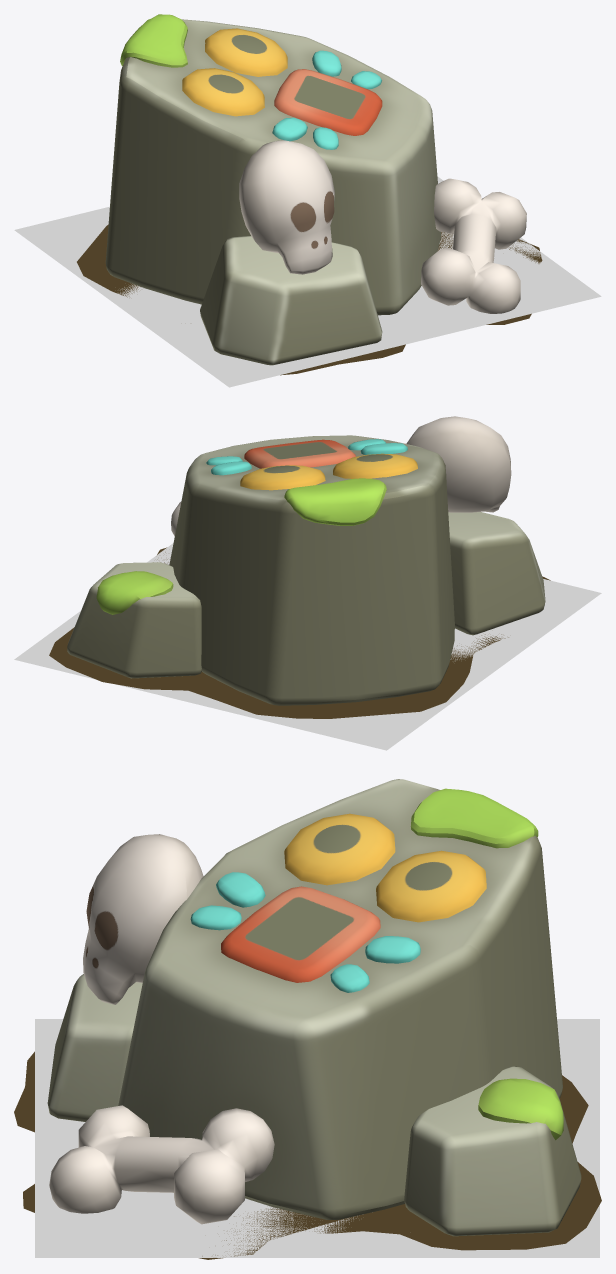
Rendered from VK_RockSculp02.fbx.
3 views of the same model, one above another, from view 1: azimuth 30°, elevation 25°; view 2: azimuth 150°, elevation 25°; view 3: azimuth 270°, elevation 25° (orthographic). The views are drawn at different scales.
Visible parts, largest first — view 1: polySurface6, polySurface4, RockSculp02_Grid_Large, polySurface14, Shadow; view 2: polySurface6, polySurface4, polySurface8, RockSculp02_Grid_Large, Shadow; view 3: polySurface6, RockSculp02_Grid_Large, polySurface8, polySurface4, polySurface14, Shadow.
Part boxes in pixels (x1,y1,x2,y2): polySurface6: (105,14,440,315); polySurface4: (200,140,382,365); RockSculp02_Grid_Large: (14,176,601,387); polySurface14: (421,178,526,313); Shadow: (77,224,542,375); polySurface6: (169,435,454,705); polySurface4: (406,416,545,635); polySurface8: (67,562,201,678); RockSculp02_Grid_Large: (14,543,601,750); Shadow: (49,547,550,718); polySurface6: (118,779,562,1219); RockSculp02_Grid_Large: (35,1019,599,1257); polySurface8: (404,1066,581,1236); polySurface4: (47,834,203,1121); polySurface14: (49,1105,274,1224); Shadow: (14,1051,601,1259).
Size of the model in its own units: 2.02 by 1.13 by 2.08.
